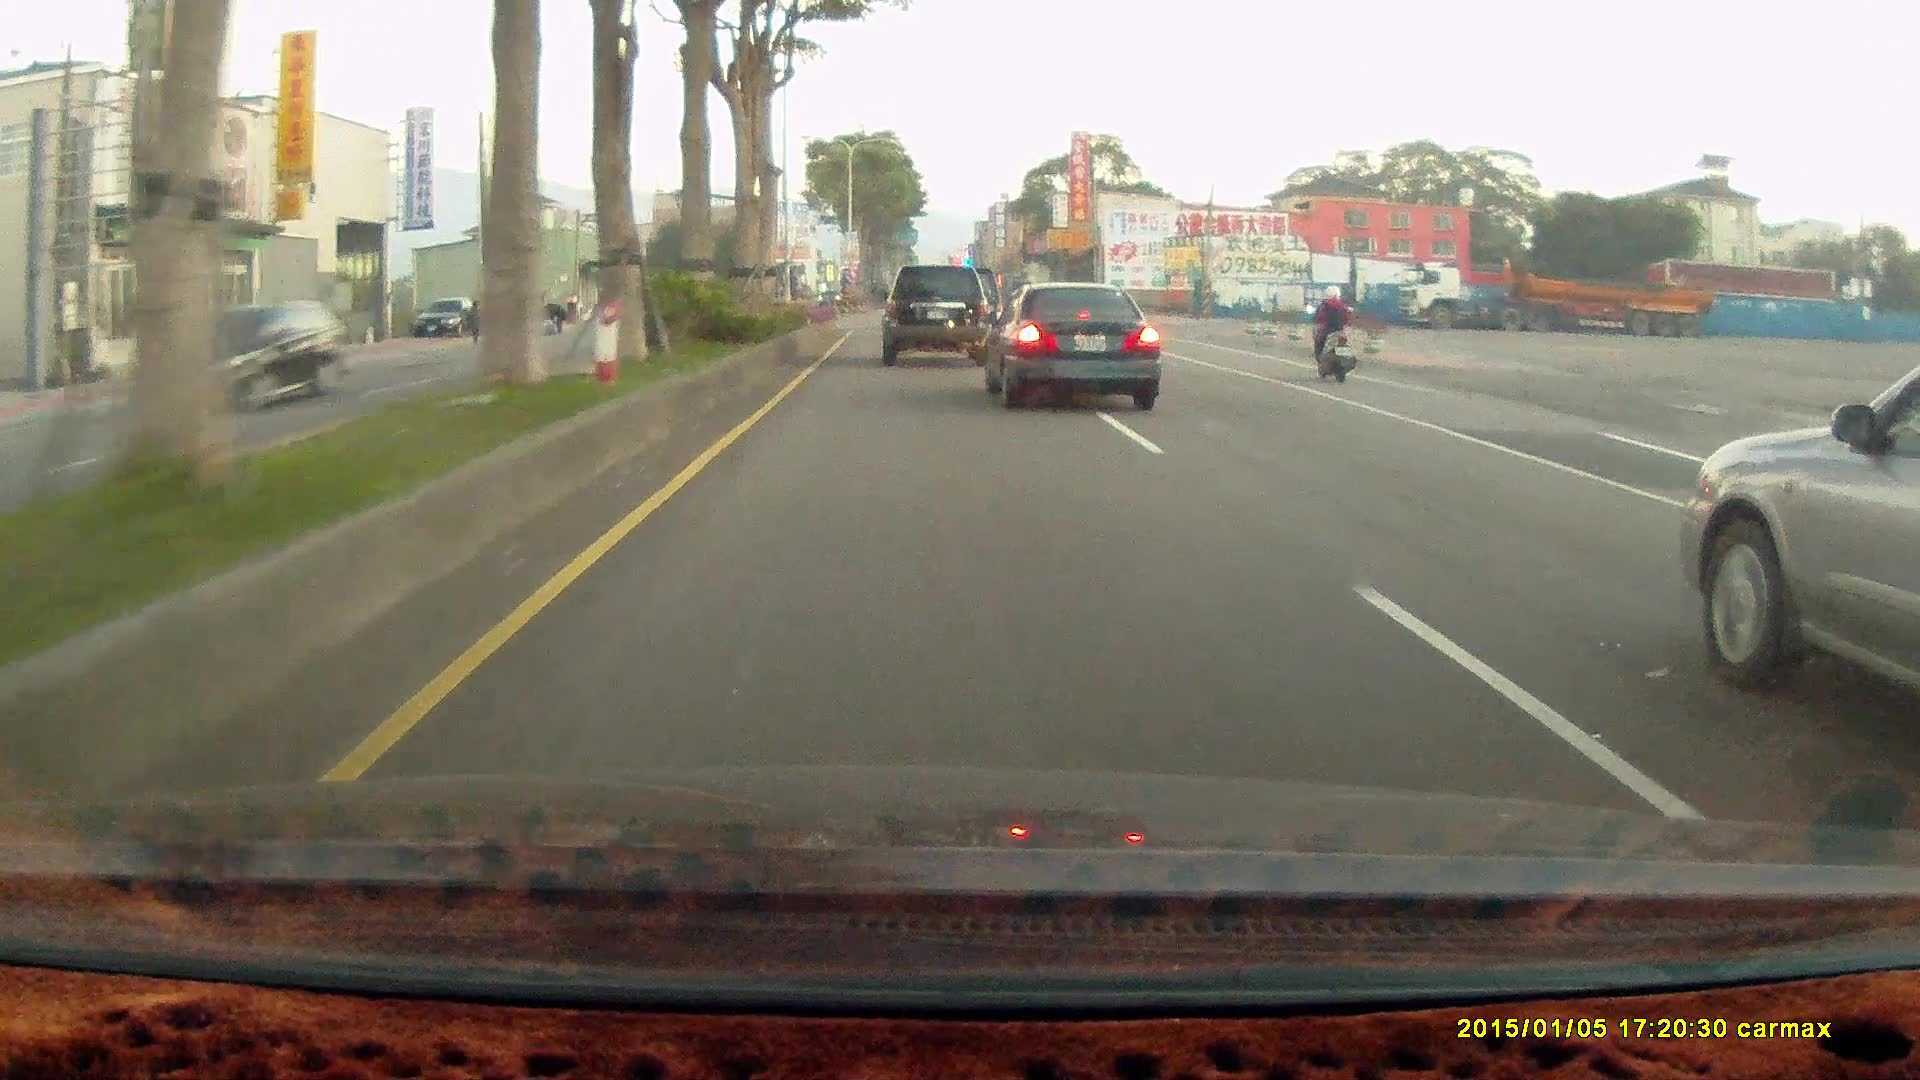pedestrian: (464, 297, 484, 344), (540, 300, 566, 334)
rider: (1298, 278, 1368, 390), (1303, 282, 1357, 381)
vehicle: (1678, 370, 1920, 726), (1393, 262, 1712, 337), (980, 279, 1160, 409), (149, 298, 344, 415), (986, 281, 1161, 403), (880, 262, 1001, 365), (877, 262, 991, 362), (412, 297, 479, 337)
